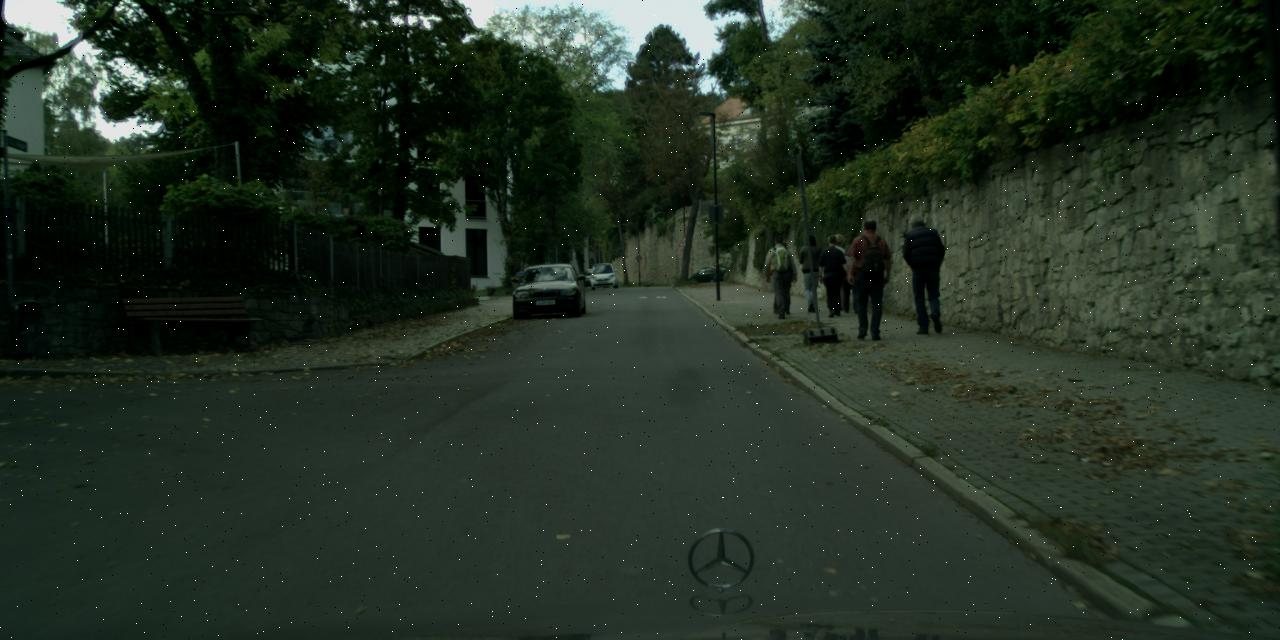ped: (844, 219, 894, 339), (900, 213, 949, 334), (817, 234, 850, 316), (837, 233, 869, 313), (795, 234, 826, 312), (766, 236, 796, 314), (822, 234, 852, 309), (769, 243, 796, 312)
